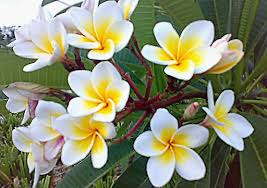frangipani: (142, 18, 222, 80)
